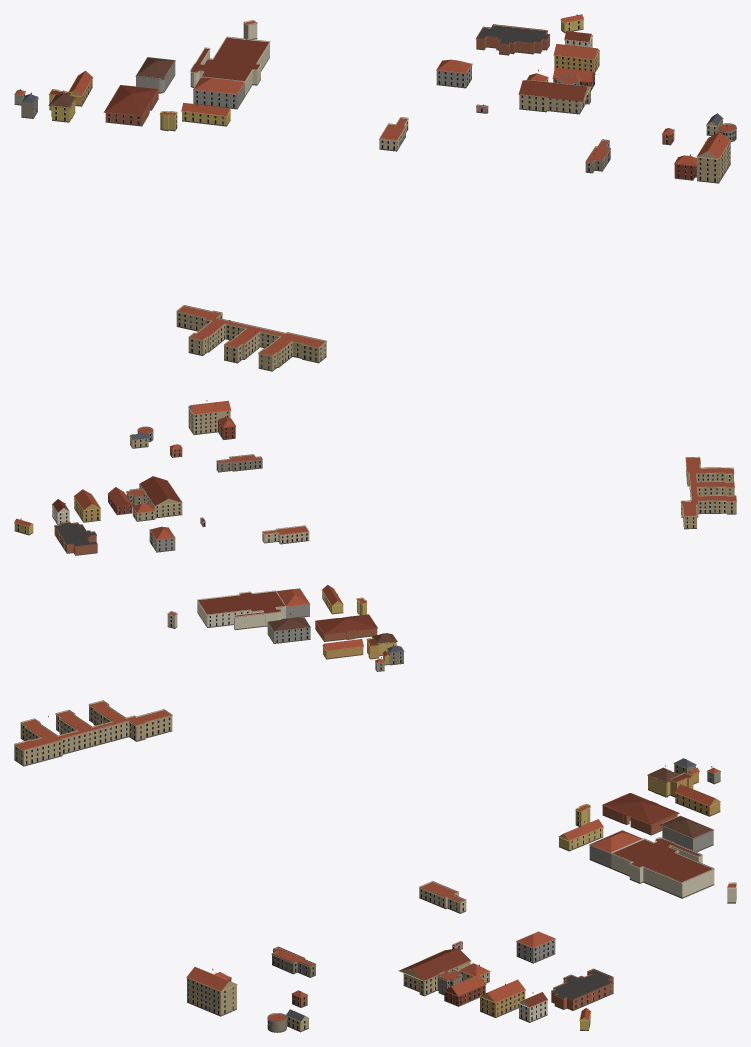
File: Budynki_0_2.fbx
3 renders of one model, top to bottom at view 1: azimuth 30°, elevation 25°; view 2: azimuth 150°, elevation 25°; view 3: azimuth 270°, elevation 25°, orthographic. The views are drawn at different scales.
Visible parts, largest first — view 1: Bud_283575965, Bud_187976757, Bud_550911777, Bud_187976756, Bud_300980611, Bud_300980517, Bud_187976760, Bud_550911887, Bud_300980623, Bud_550920471, Bud_187976762, Bud_300980523 (+2 smaller); view 2: Bud_187976757, Bud_283575965, Bud_300980611, Bud_550911777, Bud_187976756, Bud_300980517, Bud_300980623, Bud_187976760, Bud_300980523, Bud_300980521, Bud_300980528, Bud_550911887 (+2 smaller); view 3: Bud_283575965, Bud_187976757, Bud_300980611, Bud_300980517, Bud_187976756, Bud_550911777, Bud_300980623, Bud_550911887, Bud_187976760, Bud_187976762, Bud_300980523, Bud_300980528 (+5 smaller).
Boxes of the visible parts, x1,y1,x2,y2 form: Bud_283575965: [176, 305, 326, 371]; Bud_187976757: [190, 36, 270, 96]; Bud_550911777: [518, 80, 591, 114]; Bud_187976756: [476, 24, 550, 55]; Bud_300980611: [104, 85, 158, 126]; Bud_300980517: [696, 132, 730, 183]; Bud_187976760: [193, 76, 245, 109]; Bud_550911887: [553, 44, 599, 72]; Bud_300980623: [135, 57, 175, 93]; Bud_550920471: [181, 103, 230, 126]; Bud_187976762: [436, 59, 472, 88]; Bud_300980523: [379, 117, 408, 151]; Bud_187976757: [197, 590, 286, 630]; Bud_283575965: [680, 456, 736, 529]; Bud_300980611: [315, 614, 377, 641]; Bud_550911777: [139, 476, 182, 518]; Bud_187976756: [54, 521, 97, 555]; Bud_300980517: [188, 400, 231, 434]; Bud_300980623: [267, 613, 310, 643]; Bud_187976760: [276, 588, 310, 618]; Bud_300980523: [262, 525, 309, 544]; Bud_300980521: [216, 454, 262, 472]; Bud_300980528: [322, 639, 363, 659]; Bud_550911887: [74, 489, 100, 522]; Bud_283575965: [14, 700, 172, 766]; Bud_187976757: [611, 837, 714, 898]; Bud_300980611: [602, 793, 679, 835]; Bud_300980517: [186, 967, 237, 1016]; Bud_187976756: [551, 968, 613, 1010]; Bud_550911777: [398, 948, 471, 996]; Bud_300980623: [659, 815, 713, 852]; Bud_550911887: [479, 979, 525, 1017]; Bud_187976760: [589, 830, 643, 868]; Bud_187976762: [516, 931, 555, 963]; Bud_300980523: [419, 881, 466, 913]; Bud_300980528: [674, 784, 720, 816].
Size of the model in its own units: 474 by 23.5 by 458.
